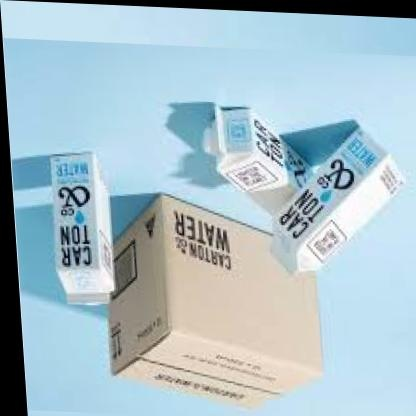trash: (273, 120, 400, 271), (50, 152, 113, 303)
